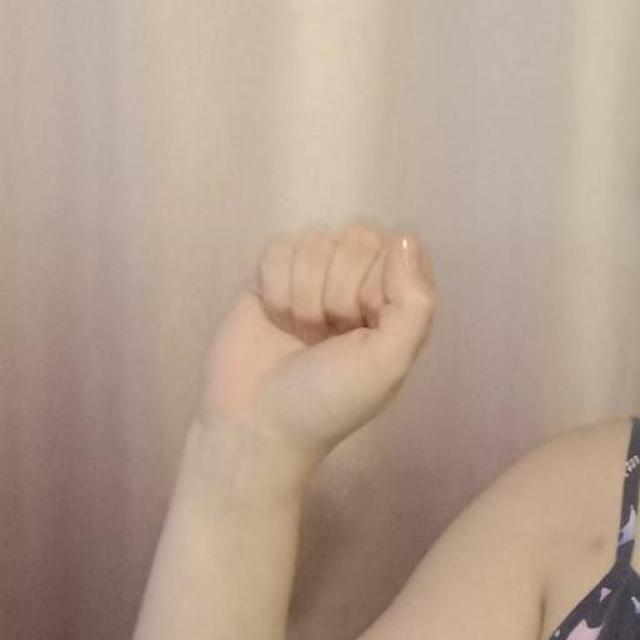hand: (198, 220, 438, 466)
